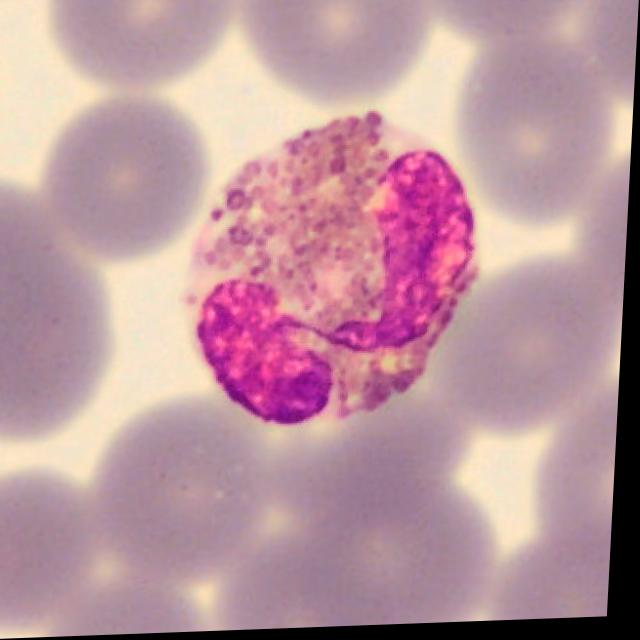Eosinofilo: (184, 116, 480, 429)
